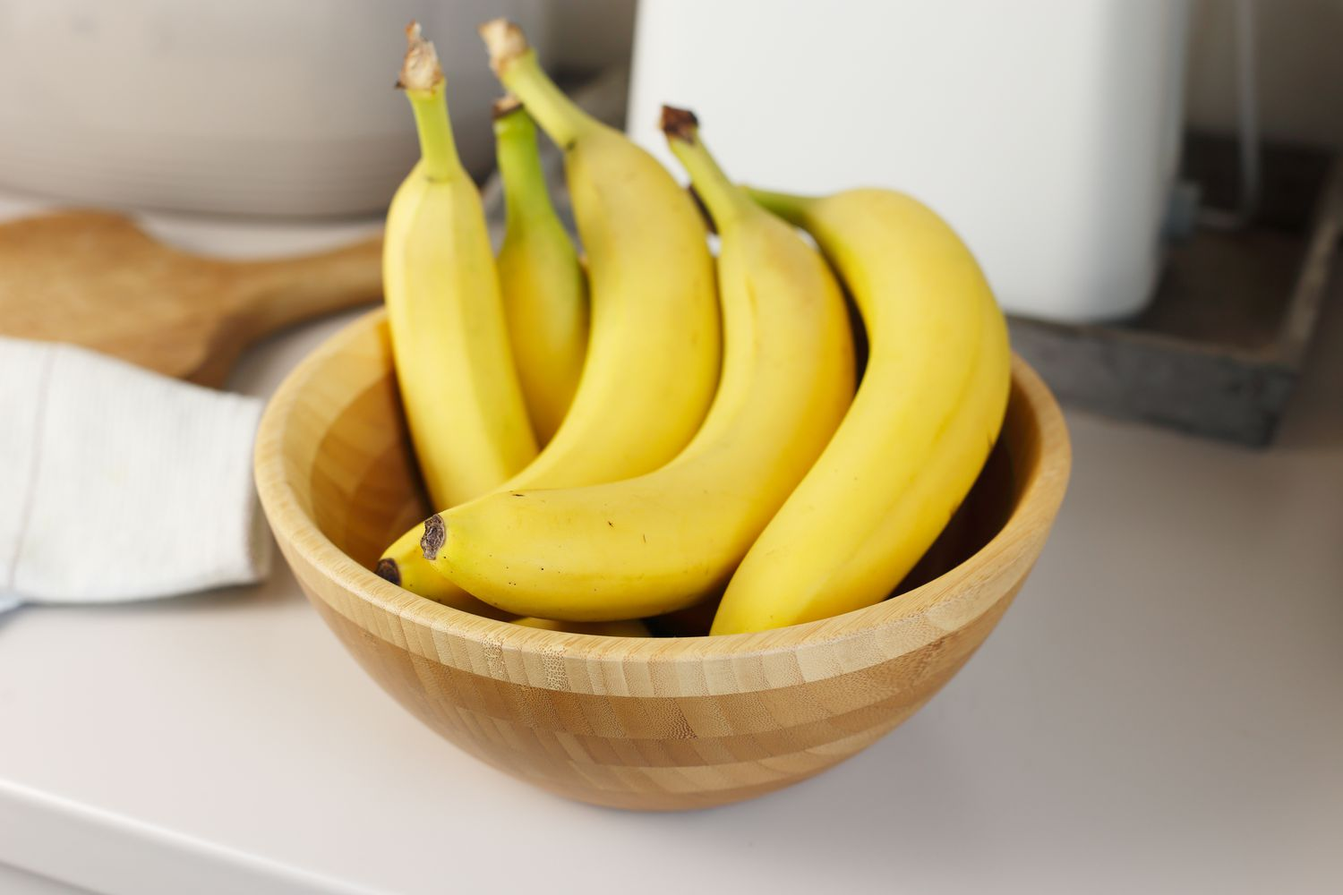banana: (340, 22, 1019, 645)
